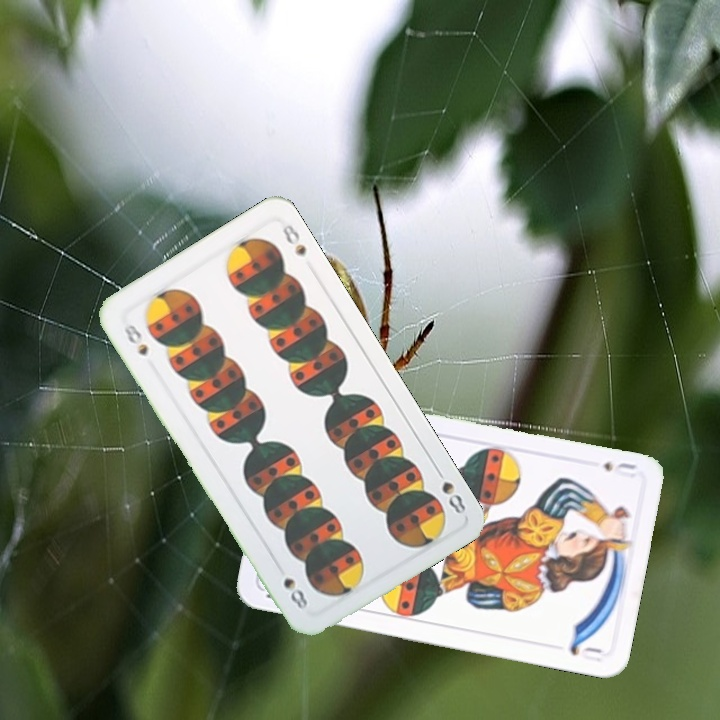S8: (431, 463, 469, 517), (120, 318, 151, 359)
SU: (599, 458, 639, 481)
